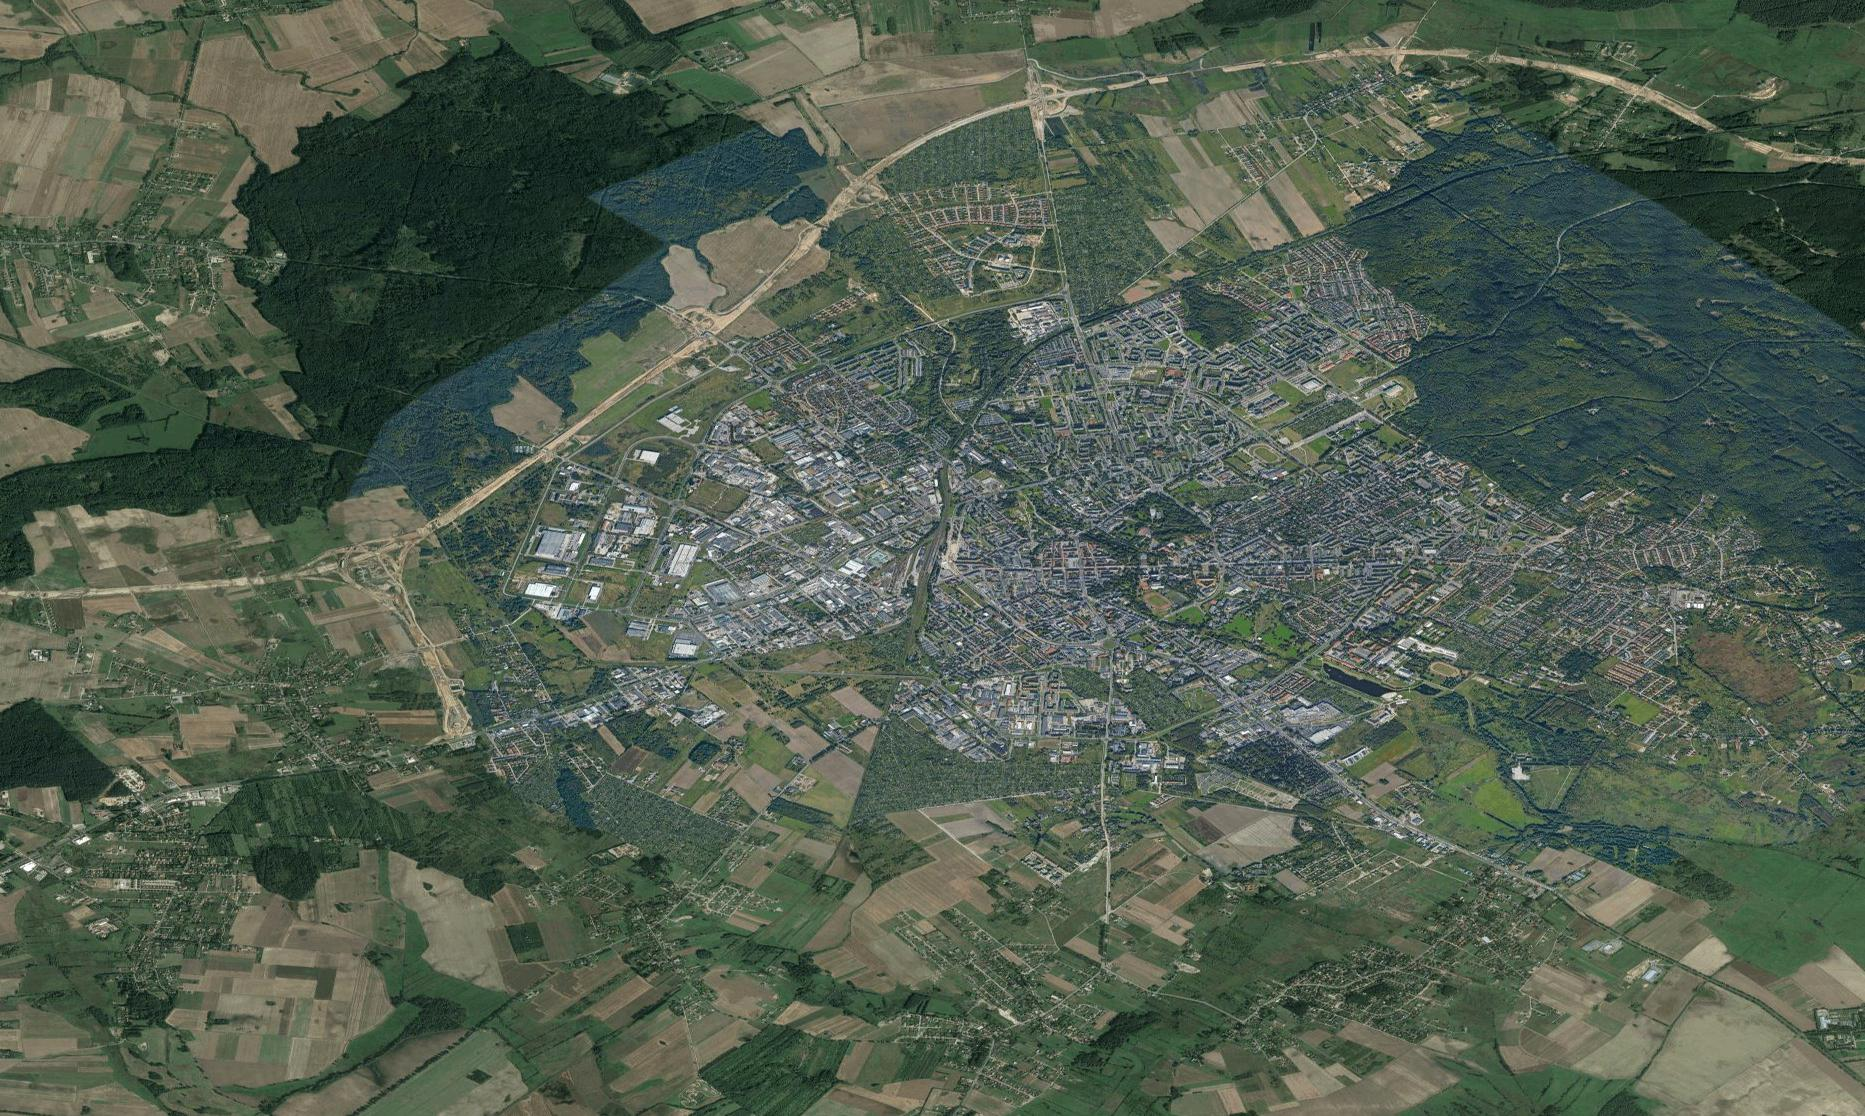industrial: (802, 567, 913, 634)
train_station: (921, 526, 948, 579)
